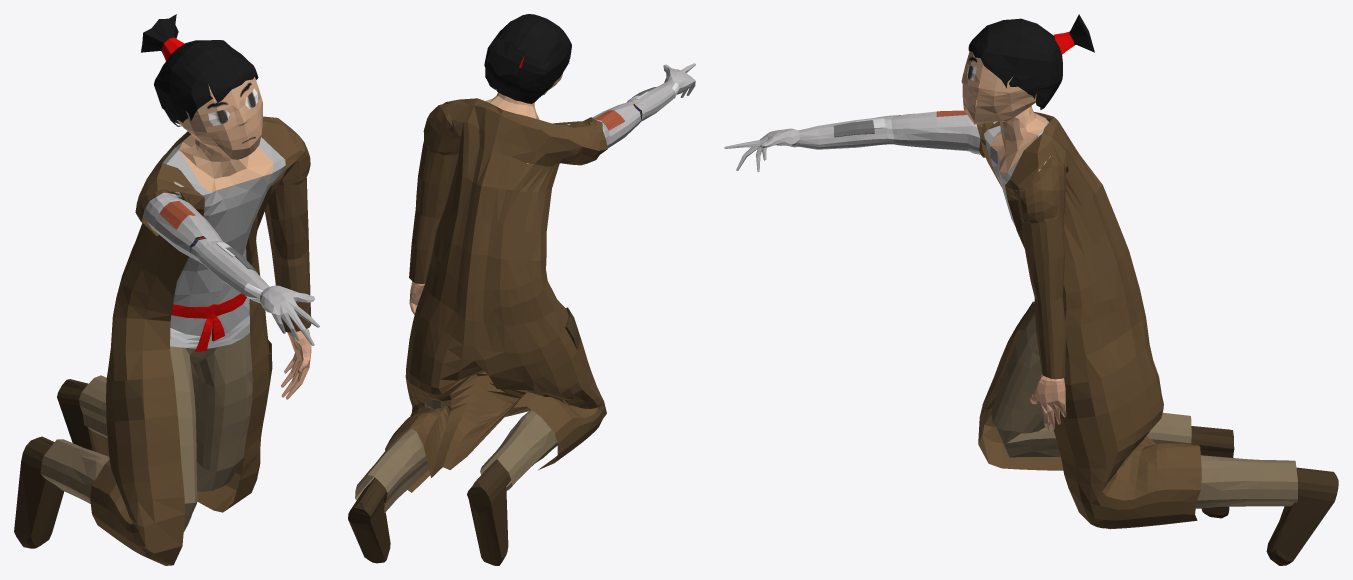
Rendered from One_Die_000034.obj.
3 renders of one model, left to right at view 1: azimuth 30°, elevation 25°; view 2: azimuth 150°, elevation 25°; view 3: azimuth 270°, elevation 25°, orthographic. The views are drawn at different scales.
Parts seen in each view (by area): view 1: Hair_Cube.004; view 2: Hair_Cube.004; view 3: Hair_Cube.004.
Boxes of the visible parts, <box> form: Hair_Cube.004: <box>14,14,319,565</box>; Hair_Cube.004: <box>348,14,695,565</box>; Hair_Cube.004: <box>724,14,1338,565</box>.
Bounding box in the file's own units: 1.14 × 3.02 × 3.19.
